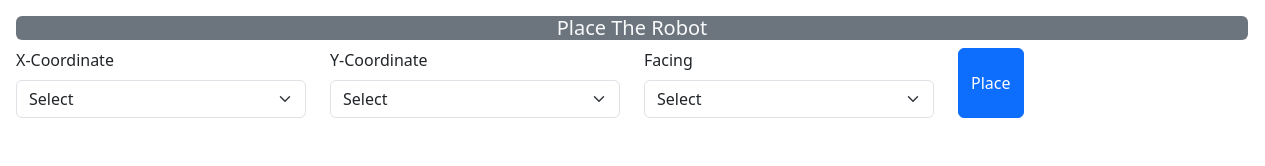
Scenario: x-coord should not be blank
The width and height of the screenshot is (1265, 166).
Select "Select" in the dropdown with test id "xCoord" at (161, 99), box [16, 80, 306, 118]
Select "2" in the dropdown with test id "yCoord" at (475, 99), box [330, 80, 620, 118]
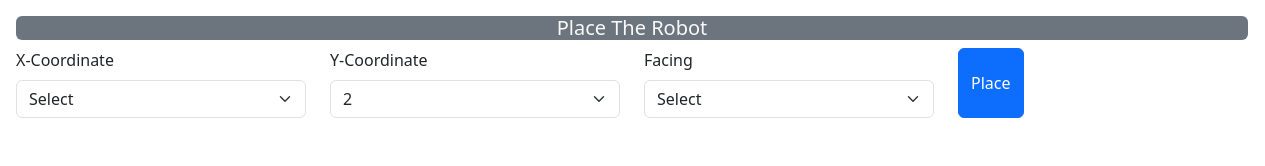
Select "NORTH" in the dropdown with test id "facing" at (789, 99), box [644, 80, 934, 118]
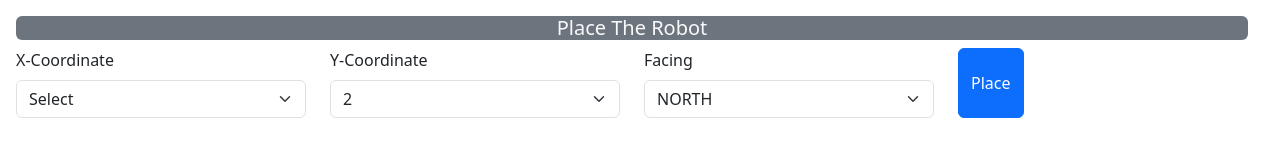
Click the button "Place" at (991, 83), box [958, 48, 1024, 118]
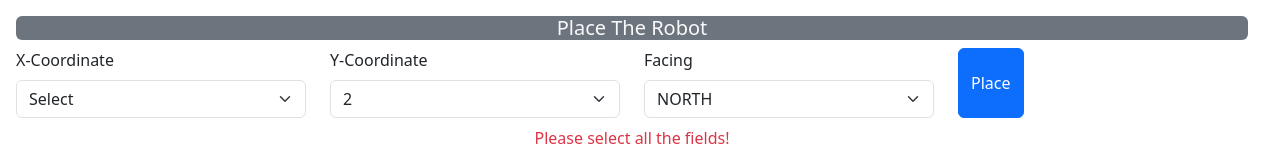
Expected: the text "Please select all the fields!" is shown, [534, 127, 730, 149]
